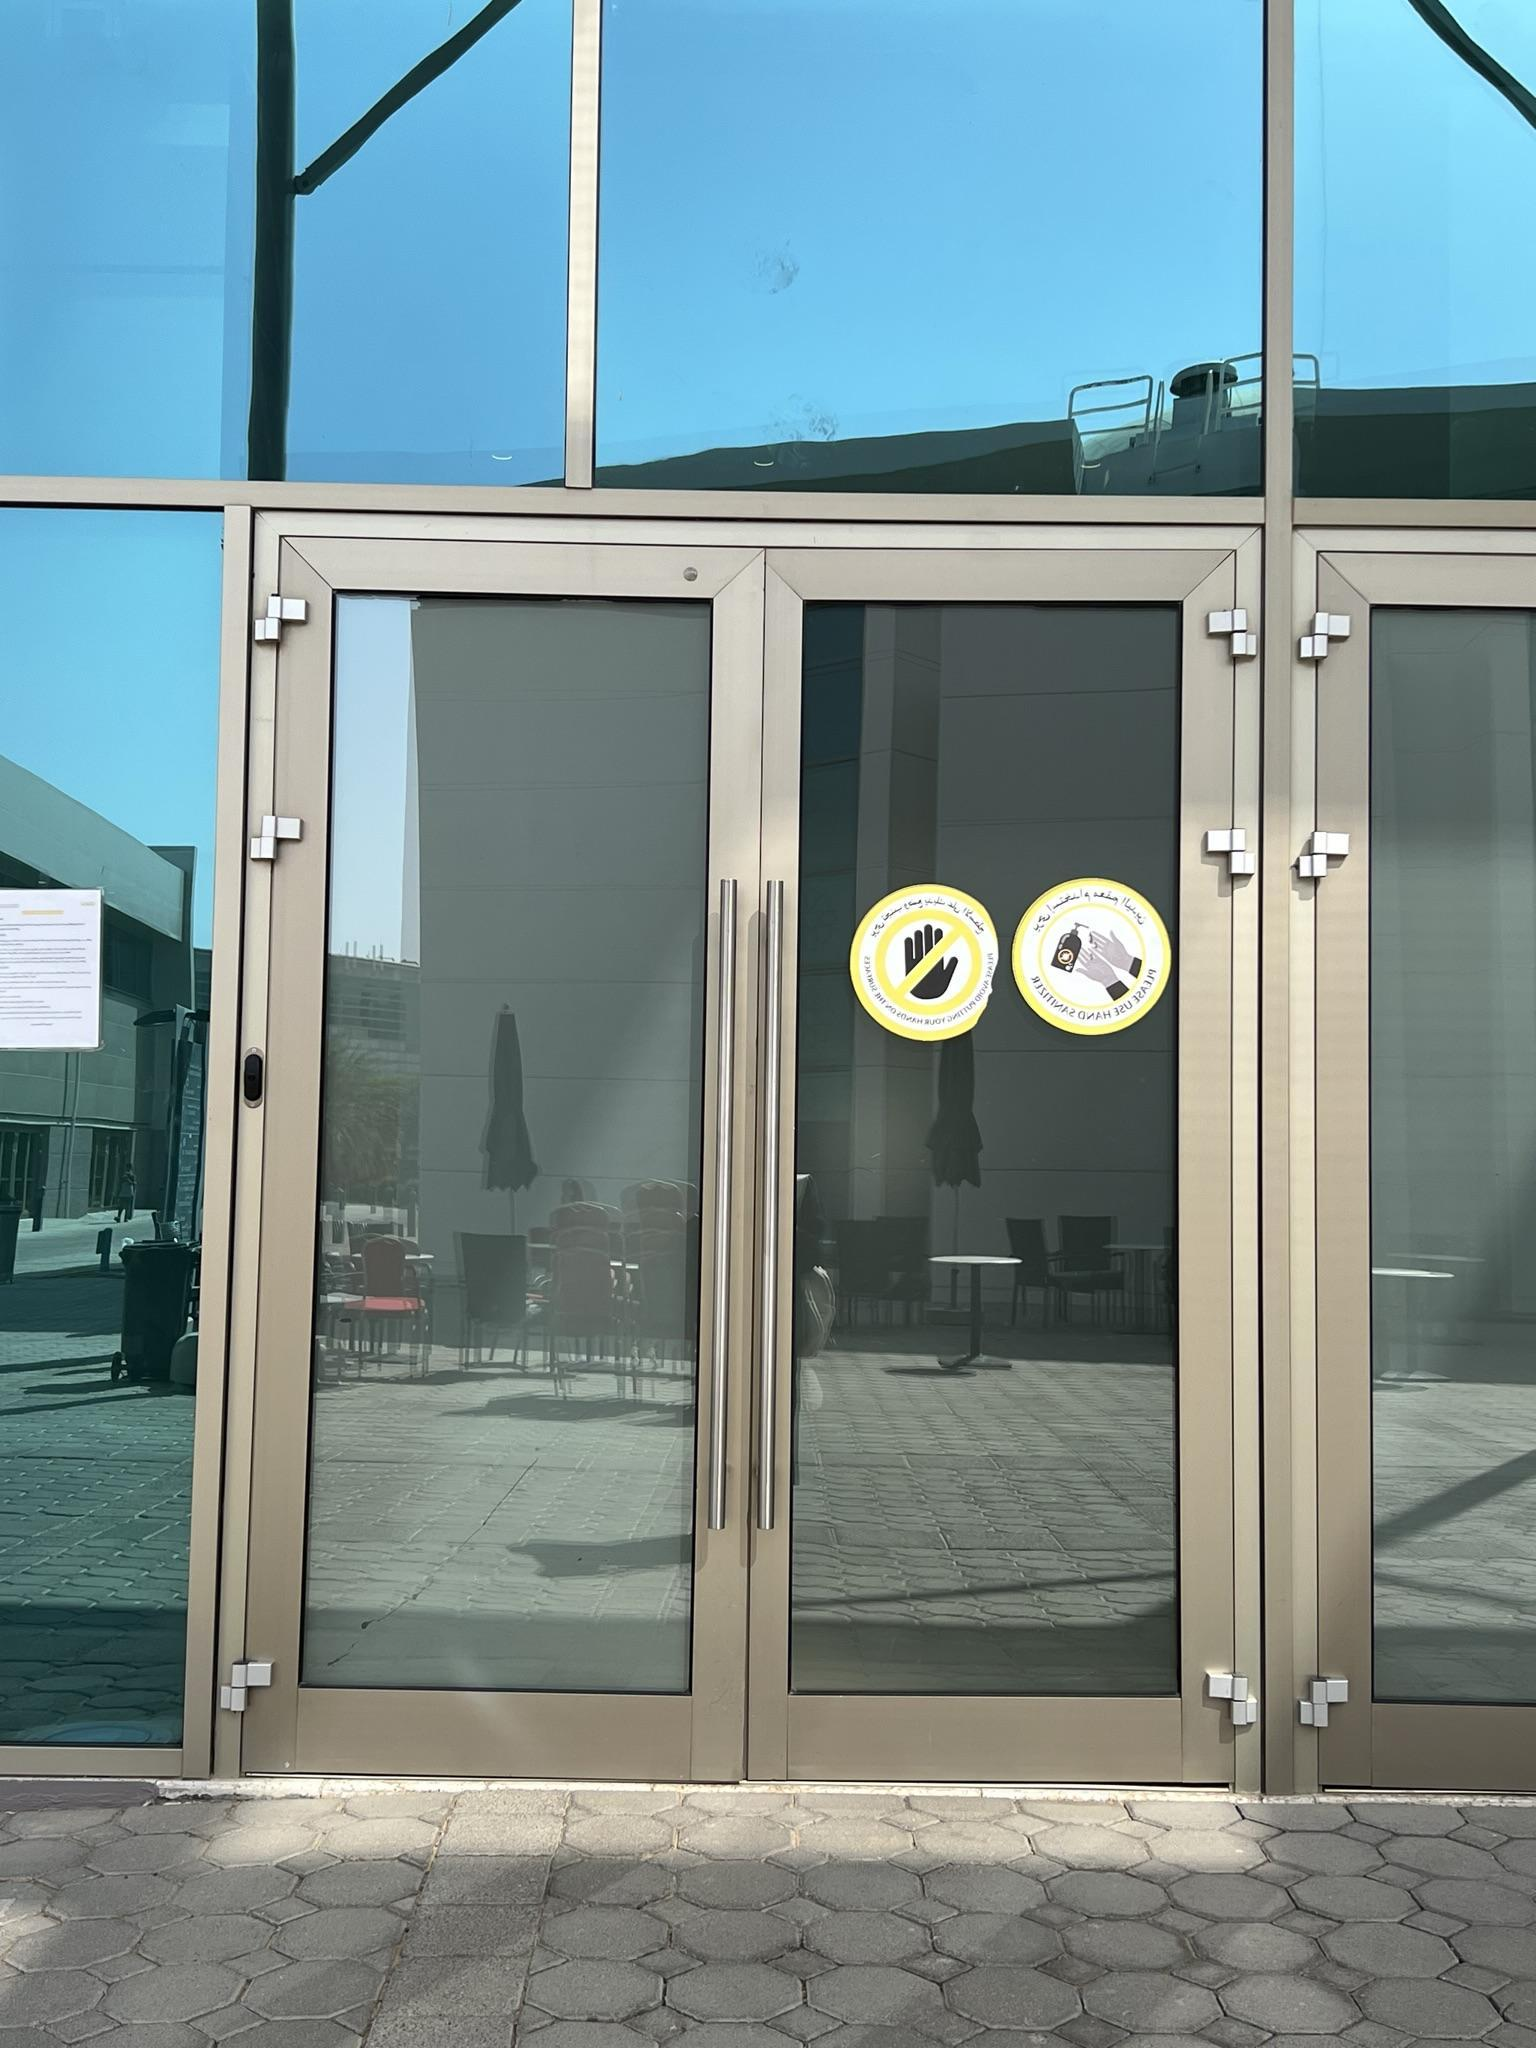door: (223, 556, 749, 1778), (755, 526, 1229, 1770)
handle: (698, 876, 743, 1538), (747, 873, 788, 1535)
